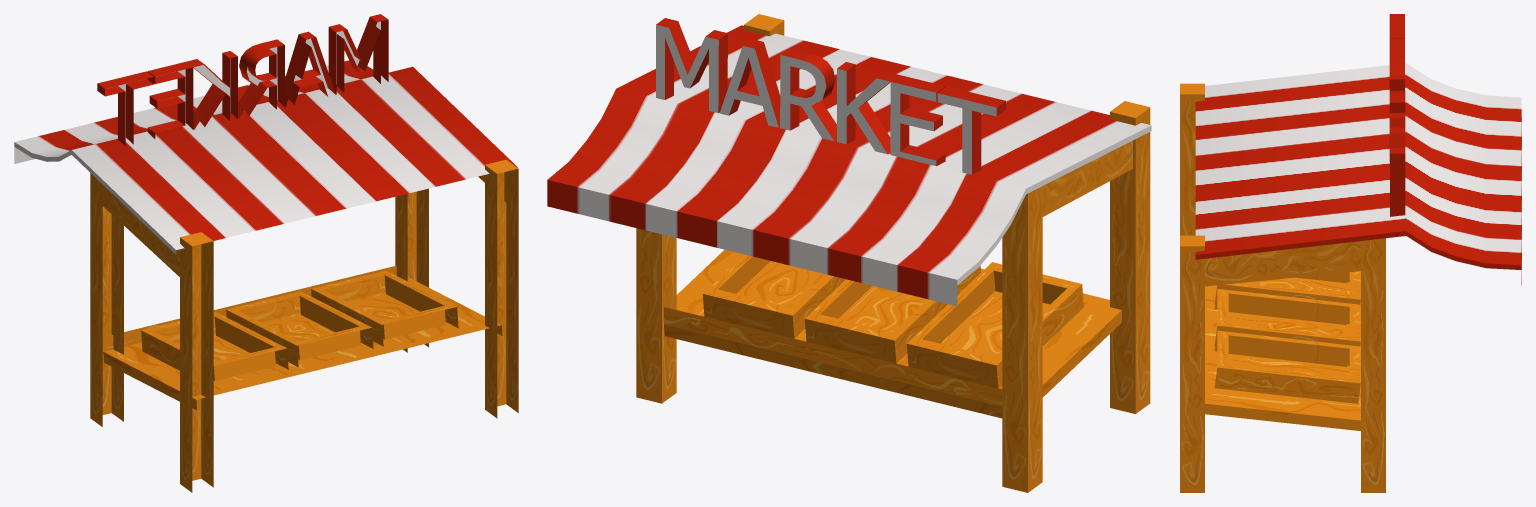
The model's file is Market LVL1.fbx.
3 renders of one model, left to right at view 1: azimuth 30°, elevation 25°; view 2: azimuth 150°, elevation 25°; view 3: azimuth 270°, elevation 25°, orthographic. The views are drawn at different scales.
Visible parts, largest first — view 1: Market_LVL1_Body, Market_LVL1_Cover, Market_LVL1_Sign; view 2: Market_LVL1_Cover, Market_LVL1_Body, Market_LVL1_Sign; view 3: Market_LVL1_Cover, Market_LVL1_Body, Market_LVL1_Sign.
Boxes of the visible parts, x1=… form: Market_LVL1_Body: x1=90, y1=159, x2=518, y2=492; Market_LVL1_Cover: x1=14, y1=60, x2=517, y2=254; Market_LVL1_Sign: x1=97, y1=14, x2=388, y2=146; Market_LVL1_Cover: x1=547, y1=25, x2=1151, y2=306; Market_LVL1_Body: x1=636, y1=14, x2=1150, y2=492; Market_LVL1_Sign: x1=656, y1=18, x2=1005, y2=174; Market_LVL1_Cover: x1=1195, y1=63, x2=1521, y2=285; Market_LVL1_Body: x1=1180, y1=83, x2=1385, y2=492; Market_LVL1_Sign: x1=1389, y1=14, x2=1405, y2=216.
Bounding box in the file's own units: 3.65 × 3.31 × 3.14.
1 material, 1 textured.
